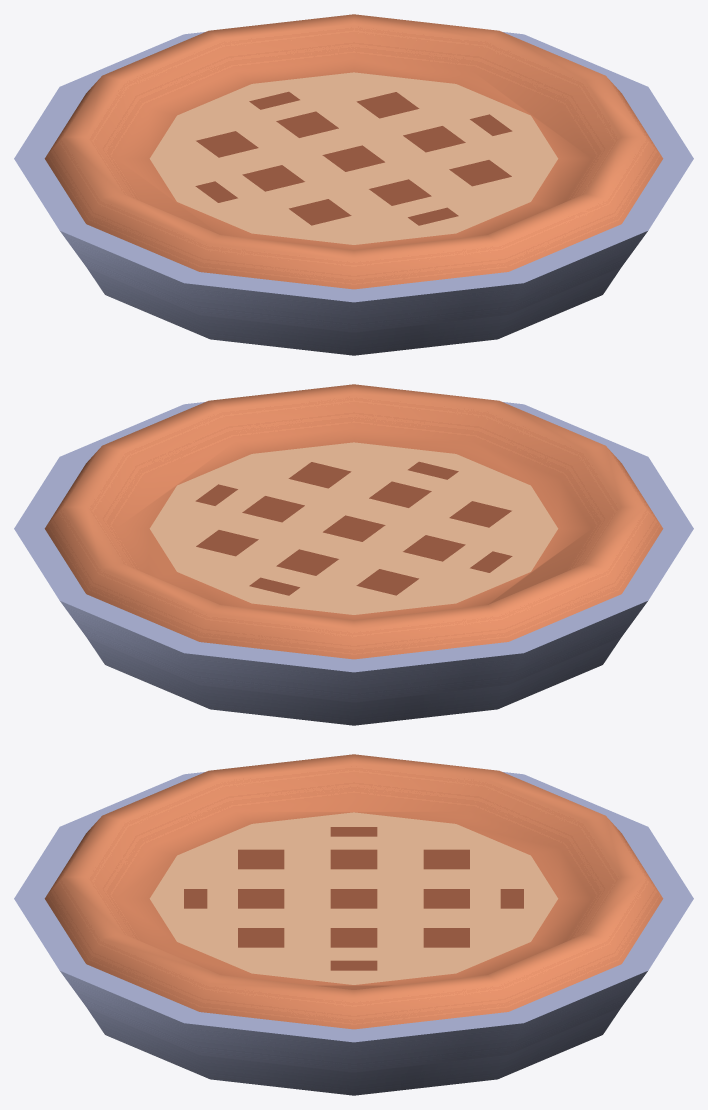
Rendered from pie.glb.
3 views of the same model, one above another, from view 1: azimuth 30°, elevation 25°; view 2: azimuth 150°, elevation 25°; view 3: azimuth 270°, elevation 25° (orthographic).
Visible parts, largest first — view 1: pie; view 2: pie; view 3: pie.
Boxes of the visible parts, box(x1,y1,x2,y2) form: pie: box(14, 14, 693, 355); pie: box(14, 384, 693, 725); pie: box(14, 754, 693, 1095).
Size of the model in its own units: 0.9504 by 0.1497 by 0.9504.
1 material, 1 textured.
